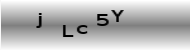5: (96, 13, 110, 27)
L: (60, 24, 74, 38)
Y: (109, 9, 124, 22)
c: (76, 24, 88, 34)
j: (35, 12, 44, 28)
